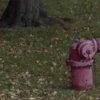Hydrant: (63, 33, 100, 100)
